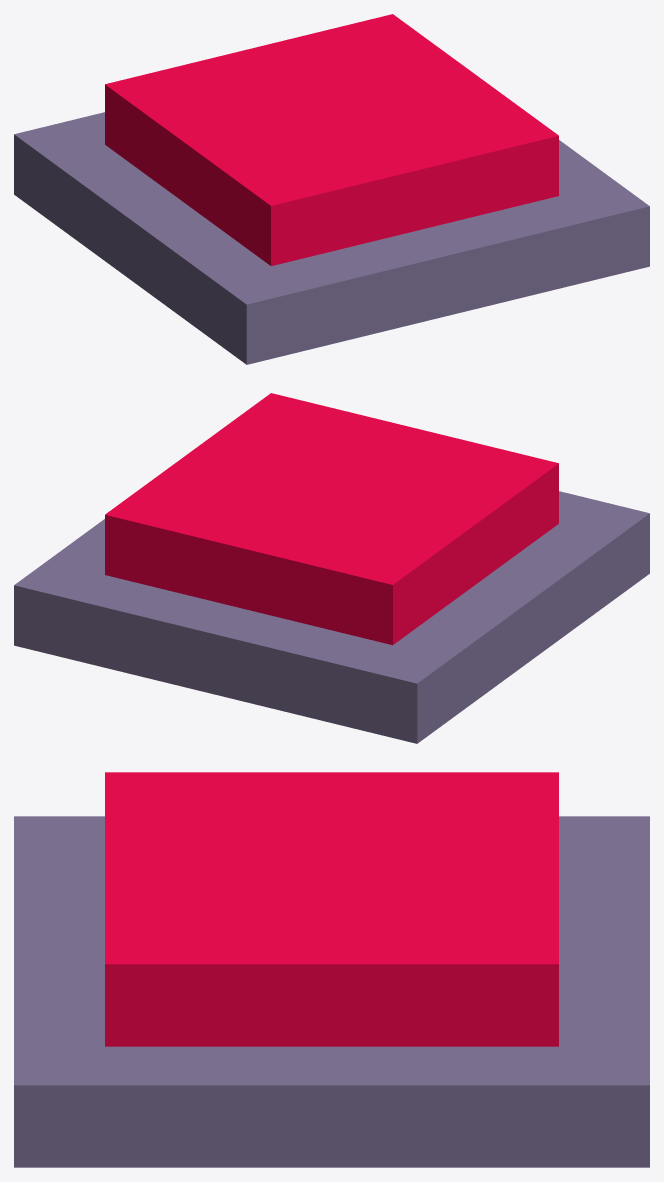
The model's file is button_a_red.obj.
3 views of the same model, one above another, from view 1: azimuth 30°, elevation 25°; view 2: azimuth 150°, elevation 25°; view 3: azimuth 270°, elevation 25° (orthographic). The views are drawn at different scales.
Size of the model in its own units: 0.7 by 0.2 by 0.7.
Materials: 1 (1 with a texture image).
